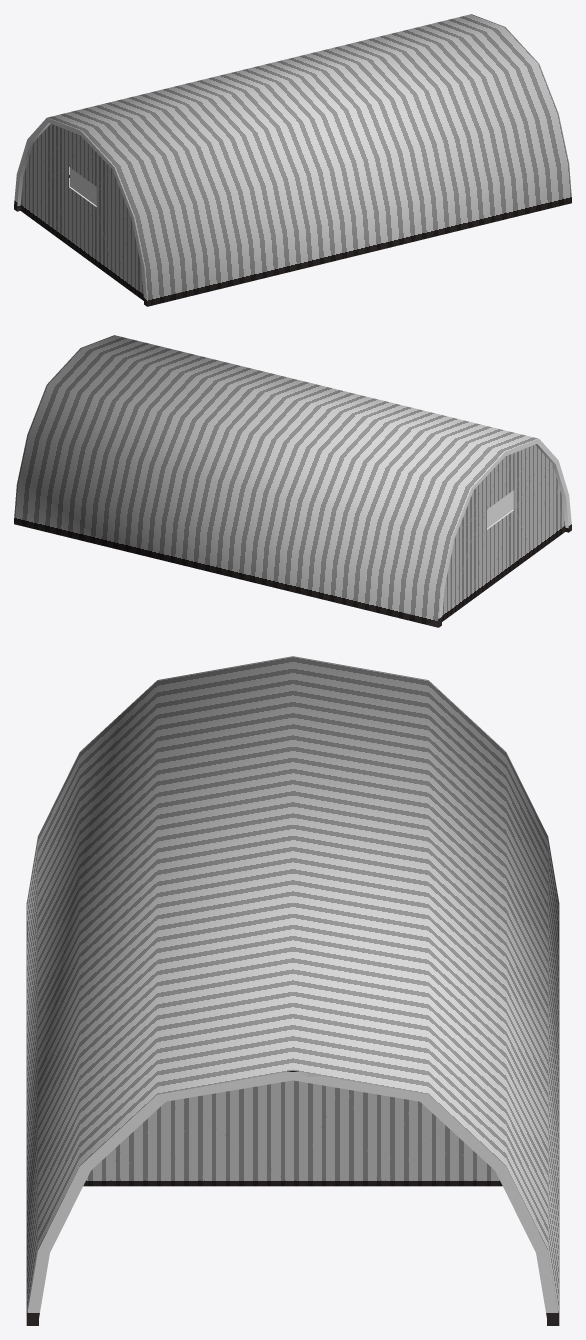
File: storage-open.glb
3 renders of one model, top to bottom at view 1: azimuth 30°, elevation 25°; view 2: azimuth 150°, elevation 25°; view 3: azimuth 270°, elevation 25°, orthographic. The views are drawn at different scales.
Visible parts, largest first — view 1: Cube.001, Cube.002; view 2: Cube.001, Cube.002; view 3: Cube.001.
Part boxes in pixels (x1,y1,x2,y2): Cube.001: (14,14,571,306); Cube.002: (70,167,96,205); Cube.001: (14,335,571,627); Cube.002: (487,490,513,528); Cube.001: (26,656,559,1325).
Size of what is drawn, in the model's own units: 75.72 by 21.72 by 41.12.
2 materials, 1 textured.
